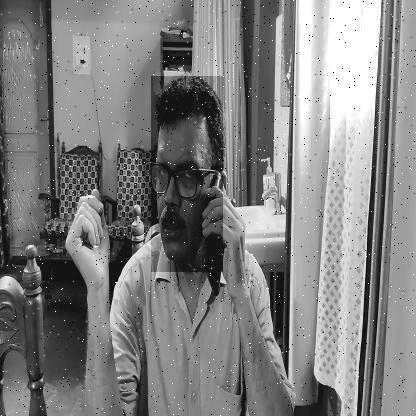Distracted: (151, 76, 223, 272)
